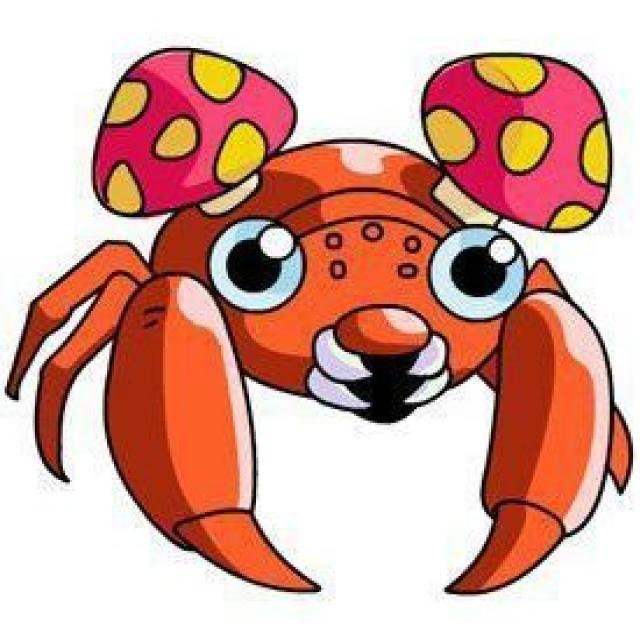Paras: (92, 51, 620, 518)
